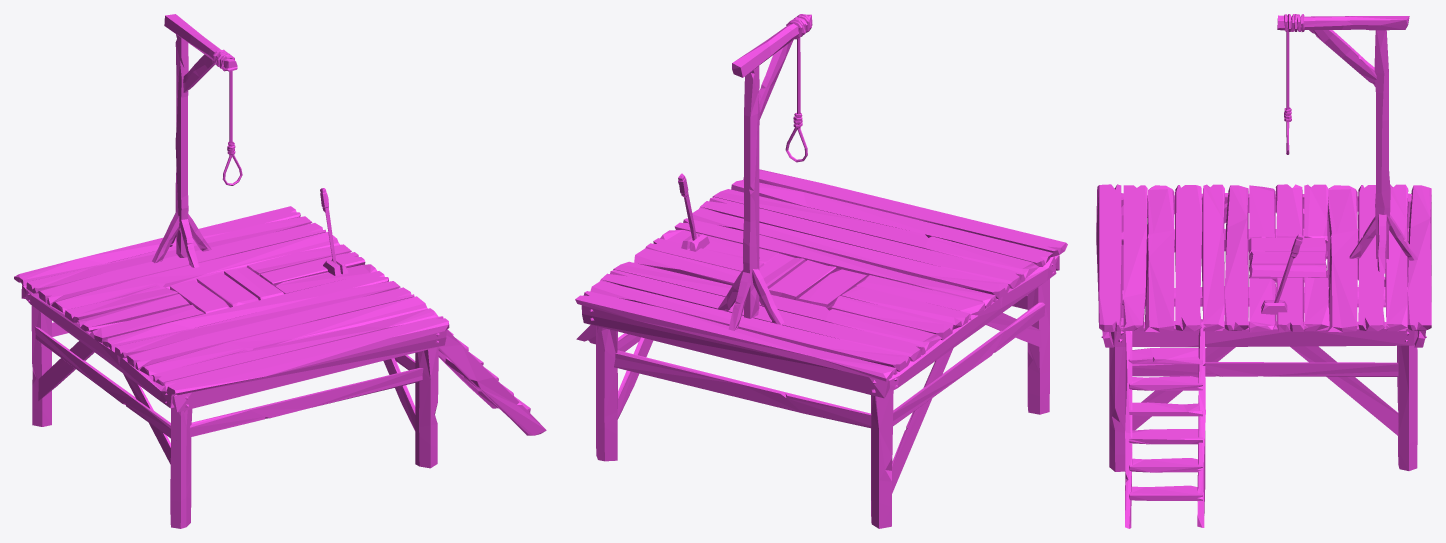
File: SM_Gibbet_Fantasy_Short.fbx
3 renders of one model, left to right at view 1: azimuth 30°, elevation 25°; view 2: azimuth 150°, elevation 25°; view 3: azimuth 270°, elevation 25°, orthographic. The views are drawn at different scales.
Parts seen in each view (by area): view 1: SM_Gibbet_Fantasy_Short_Base, SM_Gibbet_Fantasy_Short_Door; view 2: SM_Gibbet_Fantasy_Short_Base, SM_Gibbet_Fantasy_Short_Door; view 3: SM_Gibbet_Fantasy_Short_Base, SM_Gibbet_Fantasy_Short_Door, SM_Gibbet_Fantasy_Short_Lever.
Boxes of the visible parts, x1,y1,x2,y2 form: SM_Gibbet_Fantasy_Short_Base: (14, 14, 546, 528); SM_Gibbet_Fantasy_Short_Door: (170, 267, 283, 313); SM_Gibbet_Fantasy_Short_Base: (575, 14, 1067, 528); SM_Gibbet_Fantasy_Short_Door: (759, 253, 867, 308); SM_Gibbet_Fantasy_Short_Base: (1096, 14, 1431, 528); SM_Gibbet_Fantasy_Short_Door: (1248, 238, 1327, 282); SM_Gibbet_Fantasy_Short_Lever: (1274, 234, 1303, 302).
Bounding box in the file's own units: 5.57 × 5.22 × 4.04.
